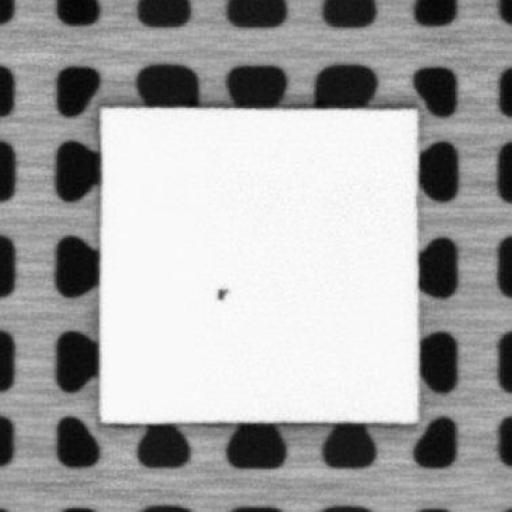DIE_INK: (212, 282, 232, 300)
